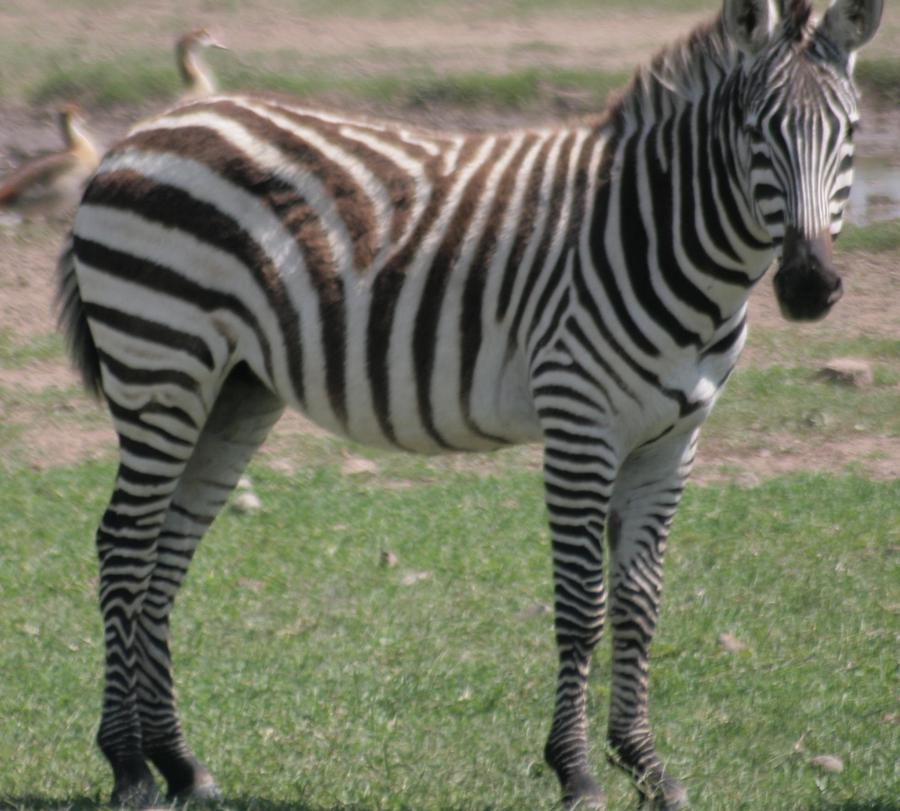zebra_plains: (57, 95, 682, 429)
